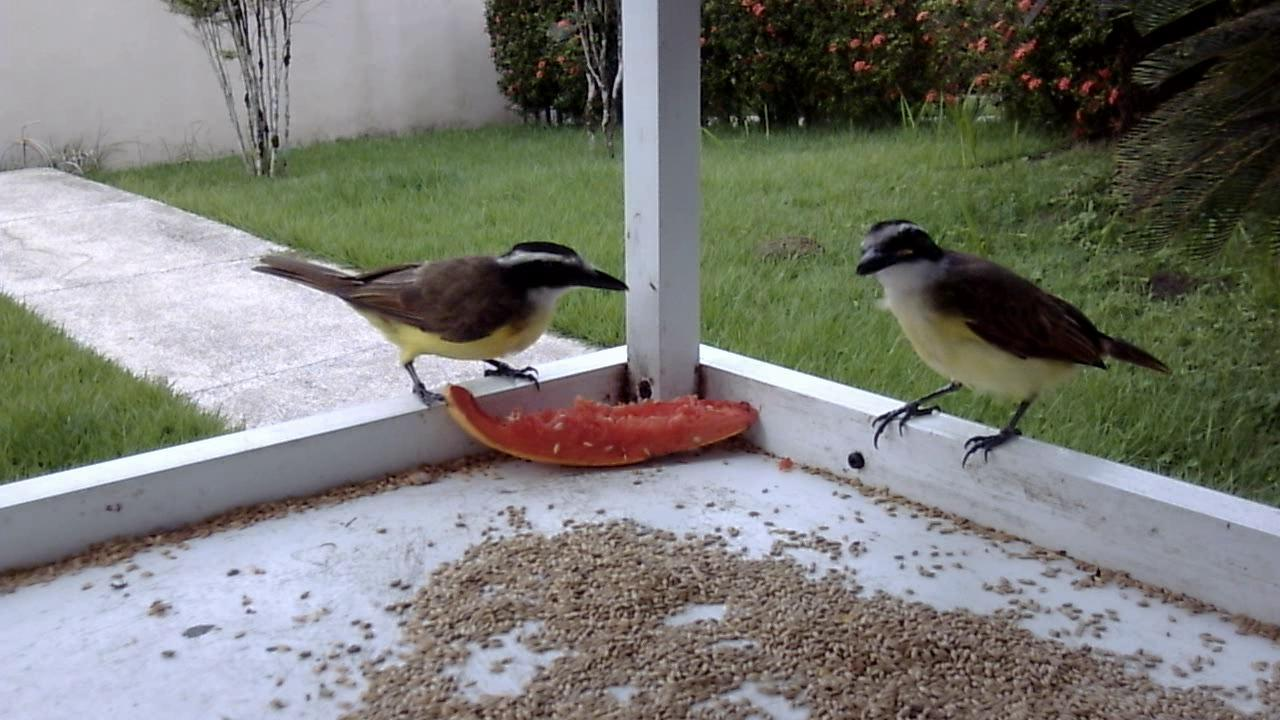bem_te_vi: (848, 205, 1180, 484), (238, 231, 631, 411)
